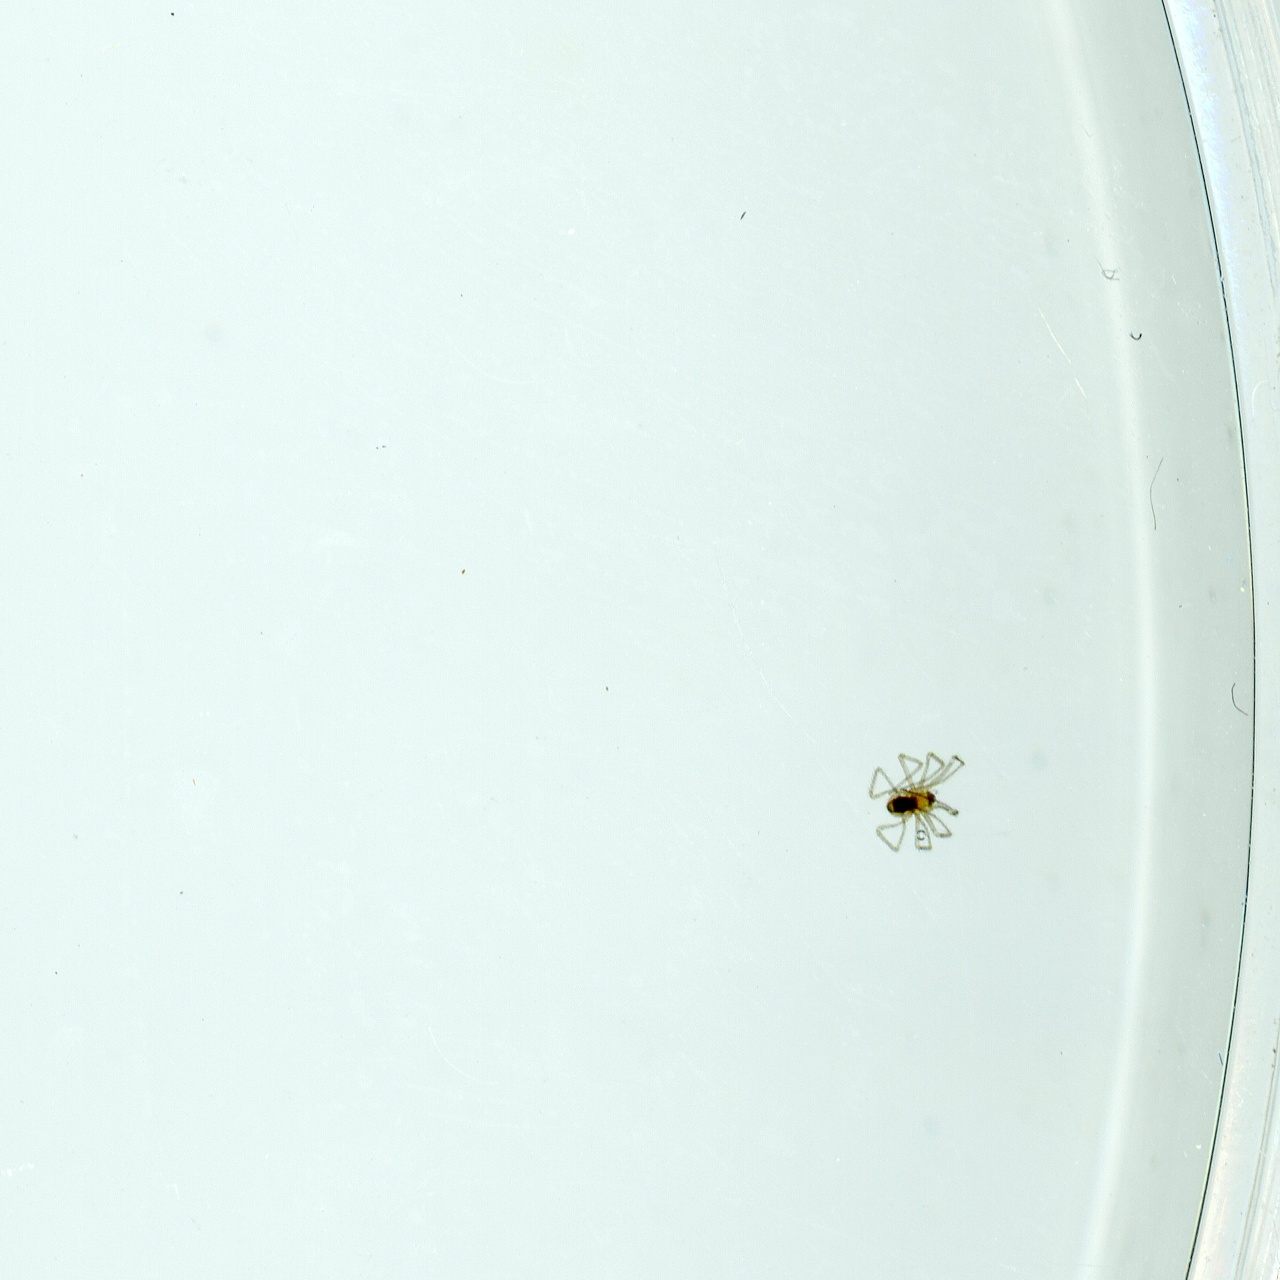arthropod: (864, 743, 969, 855)
